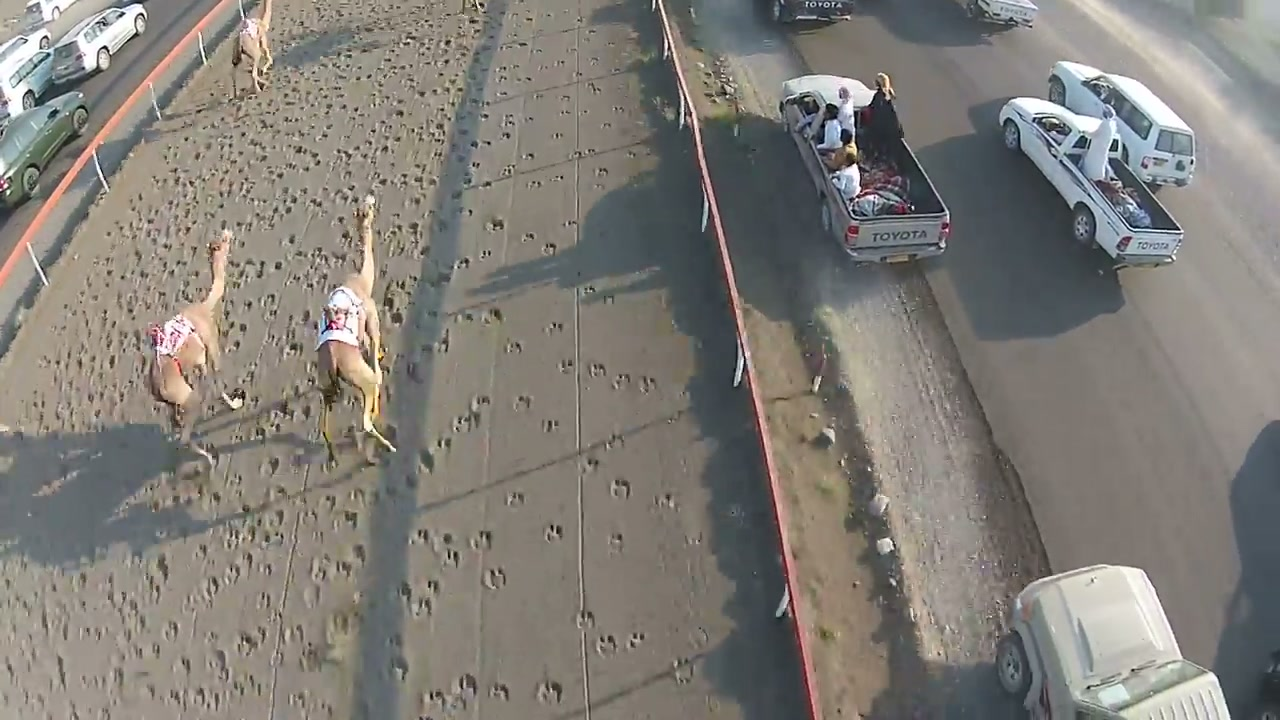animal_foot_print: (146, 40, 439, 702), (313, 74, 519, 719), (55, 71, 338, 431)
